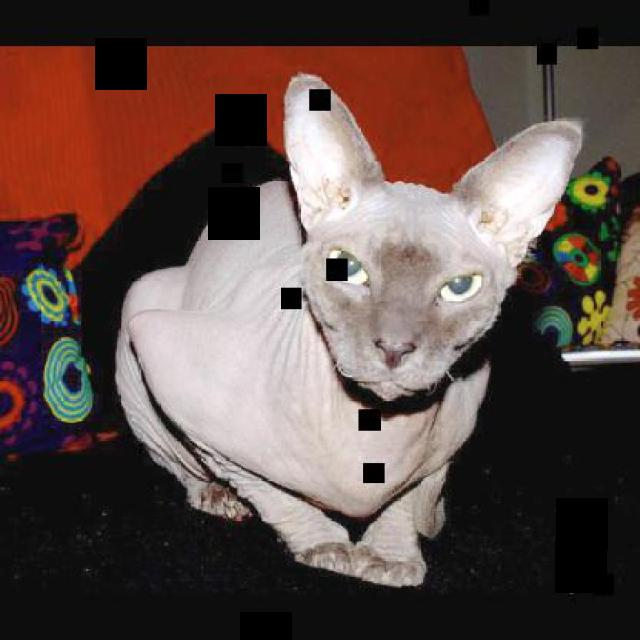unauthorized: (112, 69, 586, 588)
